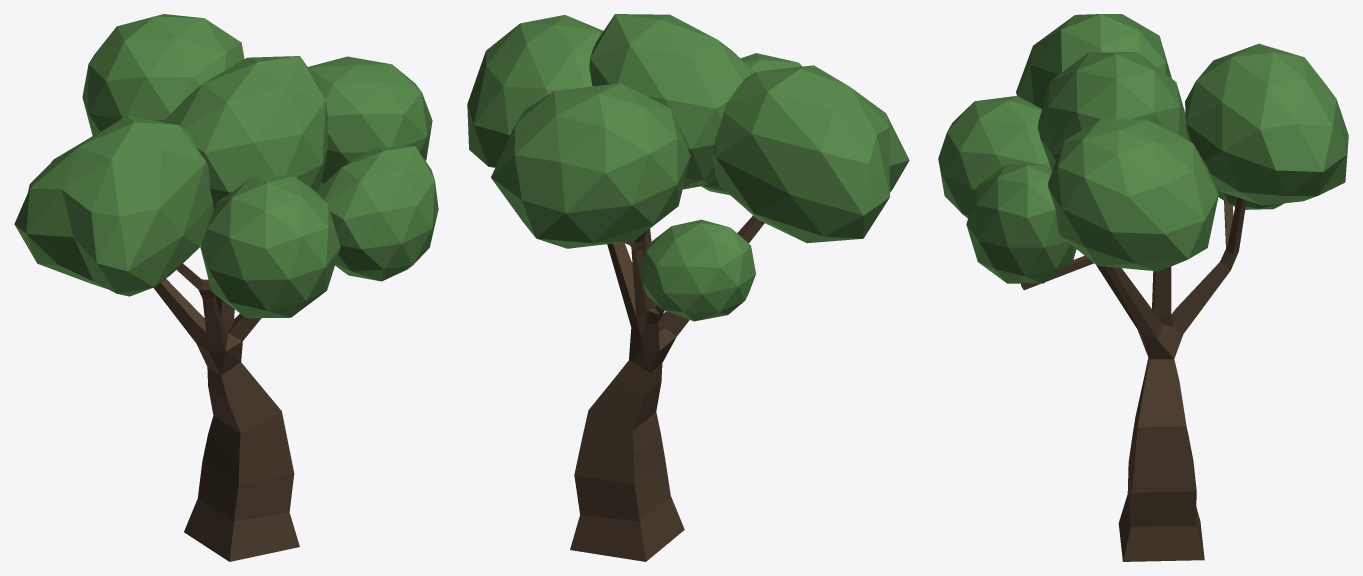
Rendered from tree.fbx.
The picture shows the model from 3 angles, left to right: view 1: azimuth 30°, elevation 25°; view 2: azimuth 150°, elevation 25°; view 3: azimuth 270°, elevation 25°; orthographic projection. The views are drawn at different scales.
Parts seen in each view (by area): view 1: tree; view 2: tree; view 3: tree.
Boxes of the visible parts, x1,y1,x2,y2 form: tree: (14, 14, 438, 561); tree: (467, 14, 909, 561); tree: (938, 14, 1348, 561).
Bounding box in the file's own units: 732 × 869 × 666.
